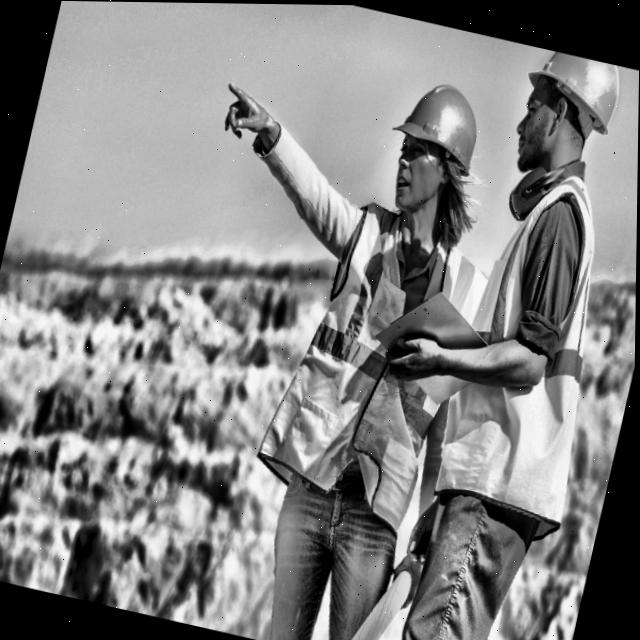dump_truck: (513, 42, 638, 124)
